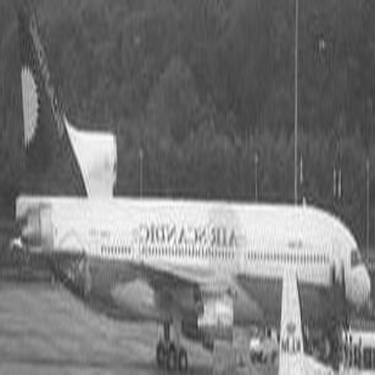airplane: (6, 1, 372, 372)
